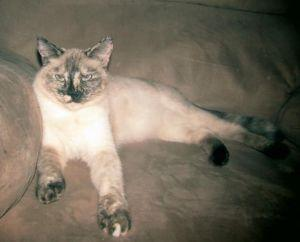siamese: (27, 24, 120, 122)
